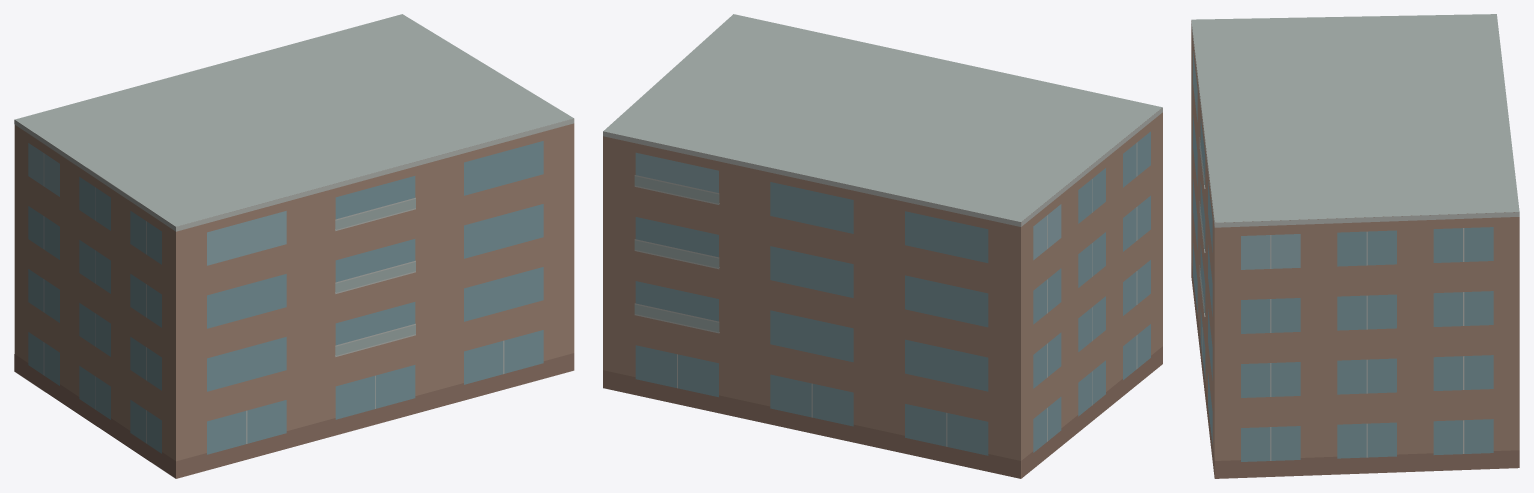
File: survey-upis-32458334.glb
3 renders of one model, left to right at view 1: azimuth 30°, elevation 25°; view 2: azimuth 150°, elevation 25°; view 3: azimuth 270°, elevation 25°, orthographic.
Visible parts, largest first — view 1: survey-upis-32458334.tmp; view 2: survey-upis-32458334.tmp; view 3: survey-upis-32458334.tmp.
Boxes of the visible parts, box(x1,y1,x2,y2) form: survey-upis-32458334.tmp: box(14, 14, 574, 478); survey-upis-32458334.tmp: box(603, 14, 1162, 478); survey-upis-32458334.tmp: box(1191, 14, 1519, 478).
Bounding box in the file's own units: 22.21 × 12.7 × 14.76.
